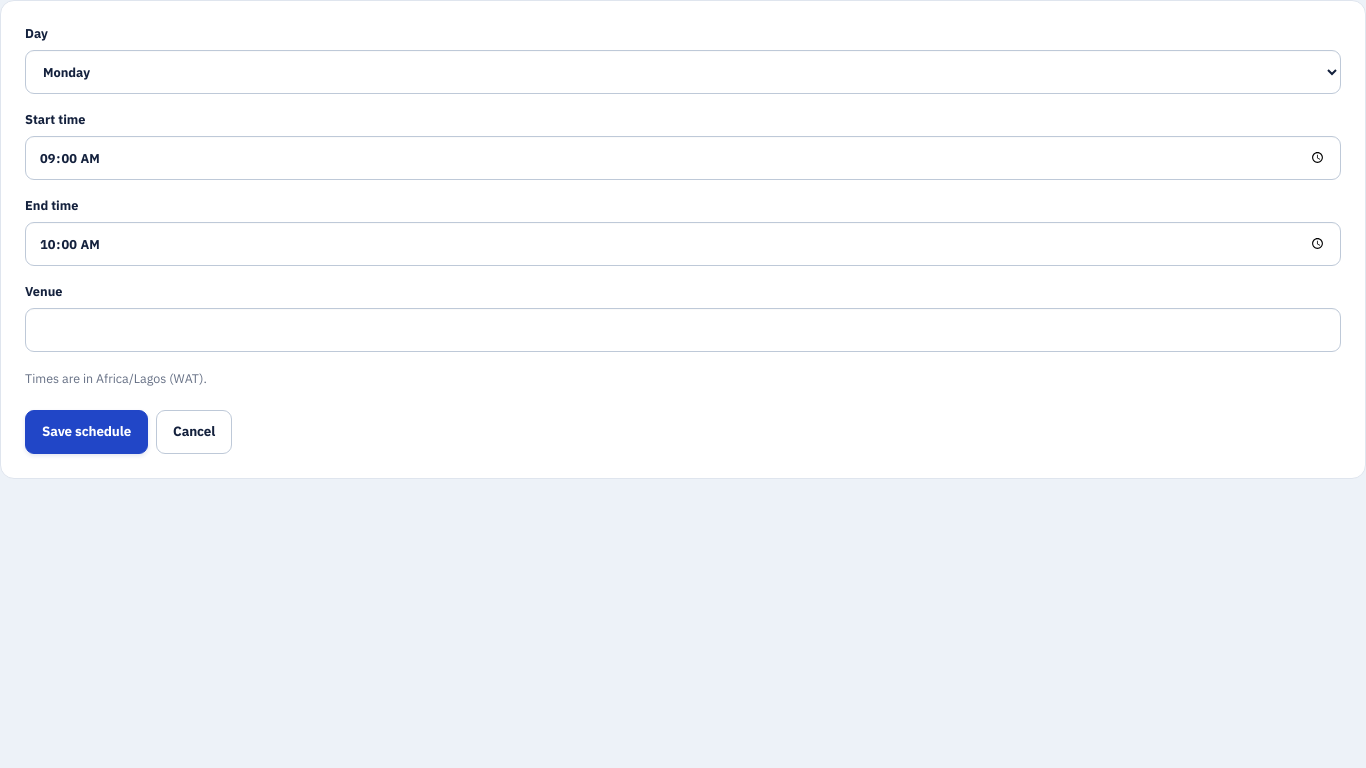
Test case: schedule form › rejects reversed times and preserves drafts after a server failure
Type "Room 7" into the field labelled "Venue" at (683, 330), box x1=25 y1=308 x2=1341 y2=352
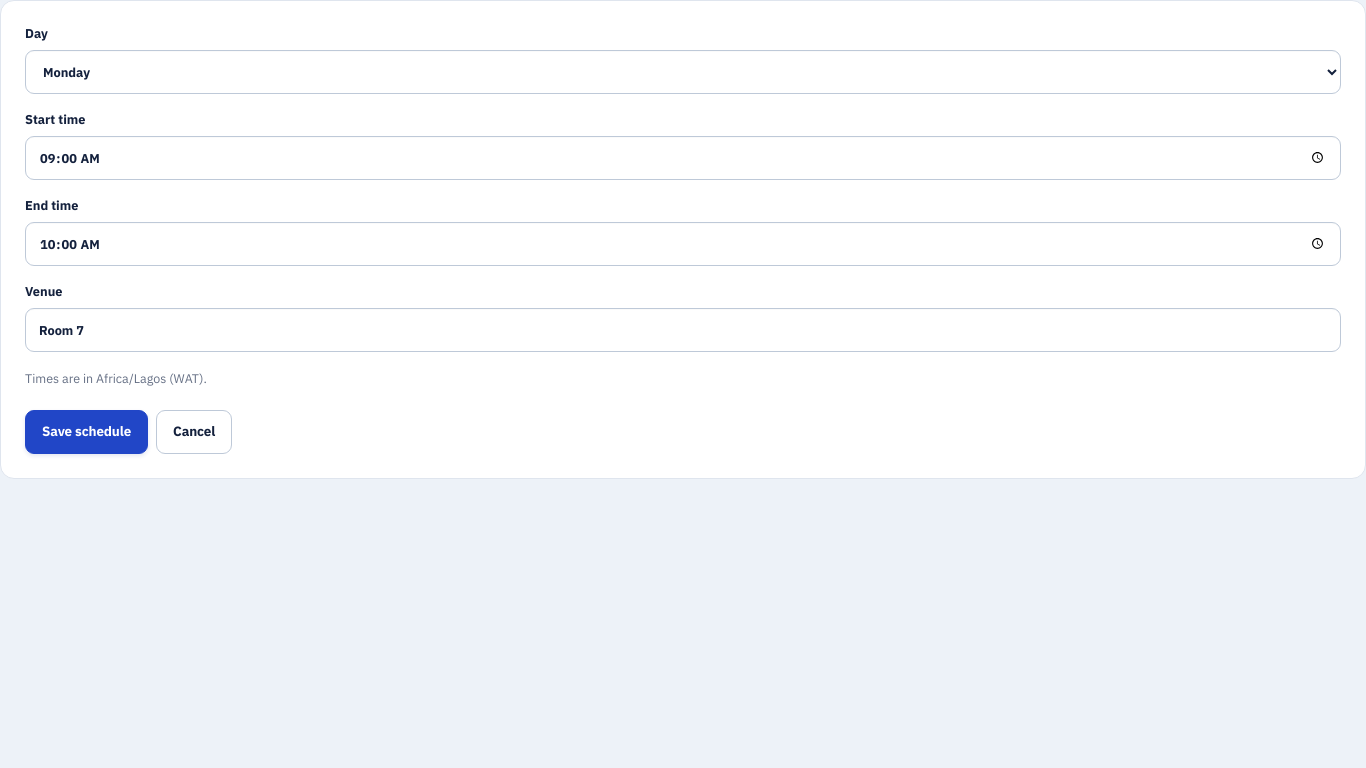
Replace the text in the time field labelled "End time" with "08:00" at (683, 244), box x1=25 y1=222 x2=1341 y2=266
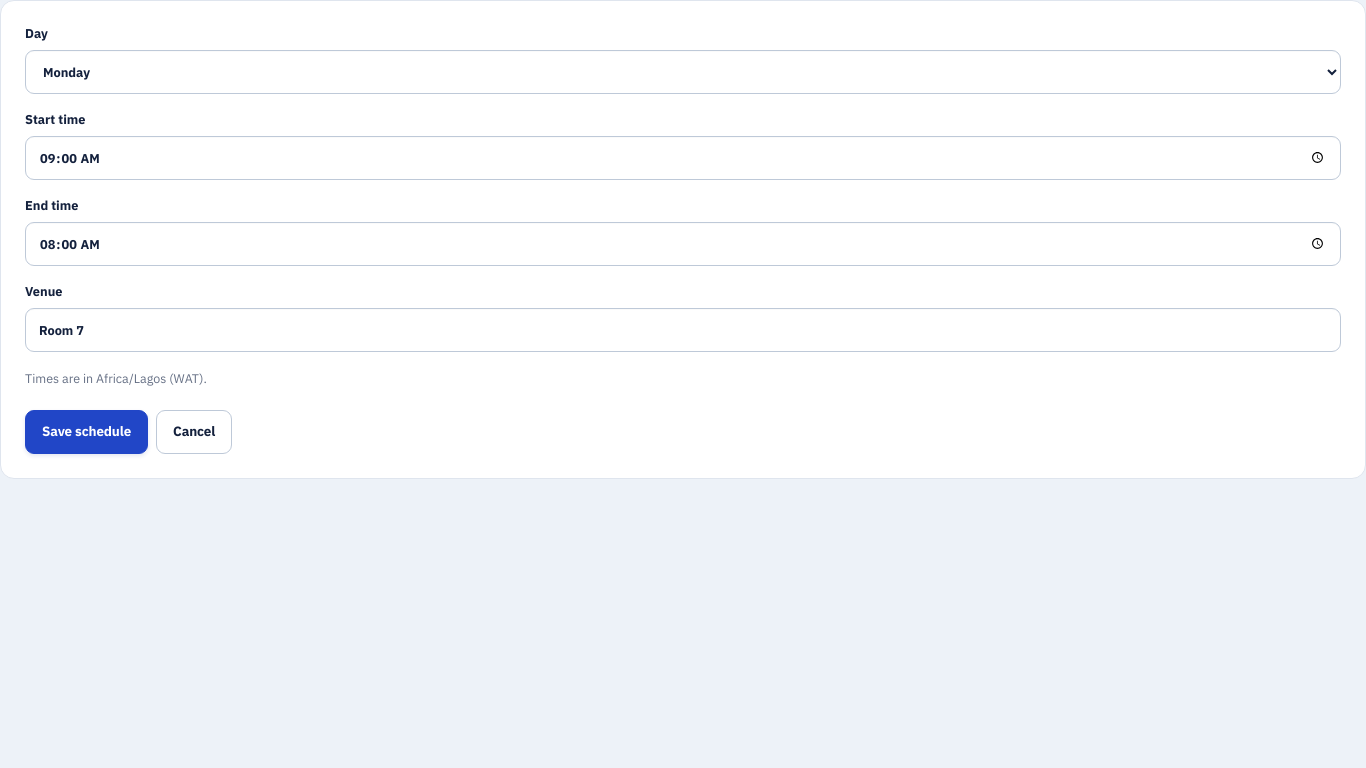
Click the button "Save schedule" at (87, 432), box x1=25 y1=410 x2=148 y2=454
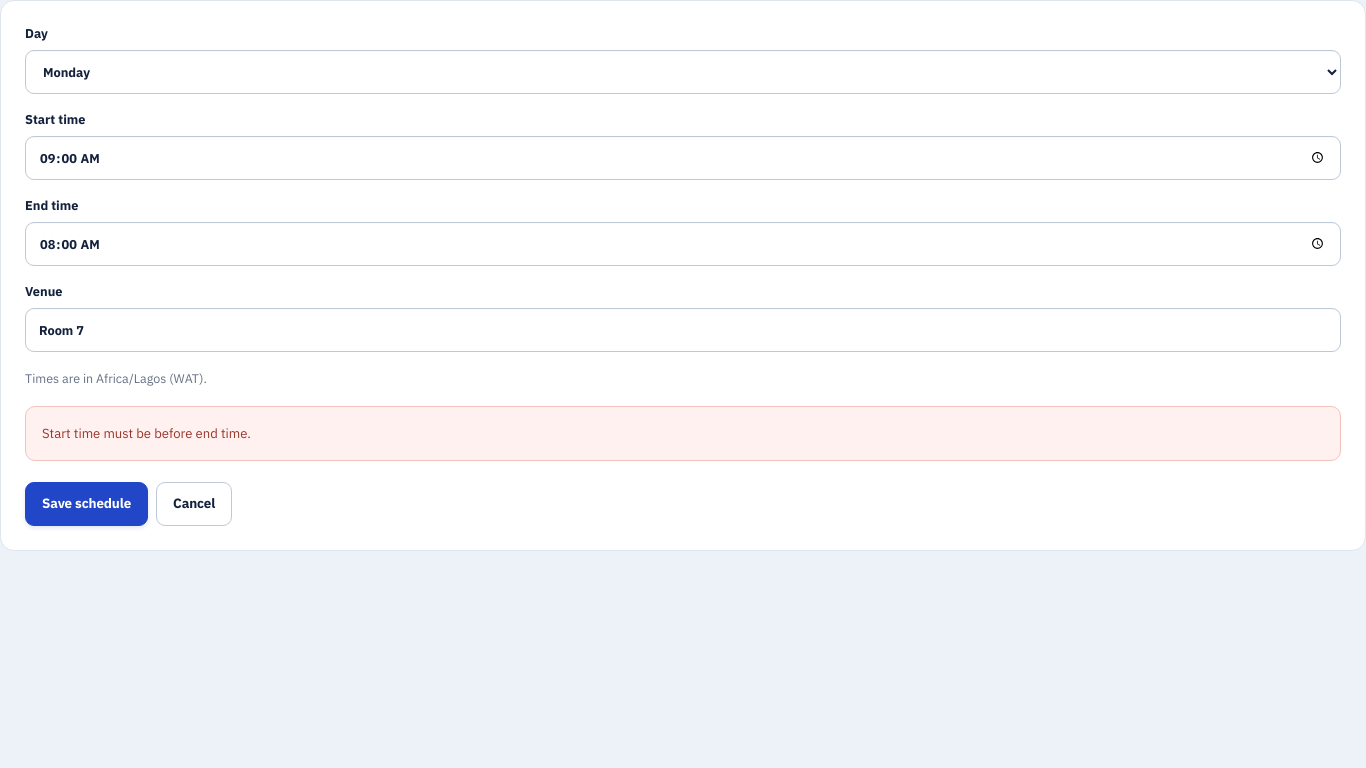
Result: the message shows "Start time must be before end time" at x1=42 y1=425 x2=251 y2=442
Replace the text in the time field labelled "End time" with "10:00" at (683, 244), box x1=25 y1=222 x2=1341 y2=266
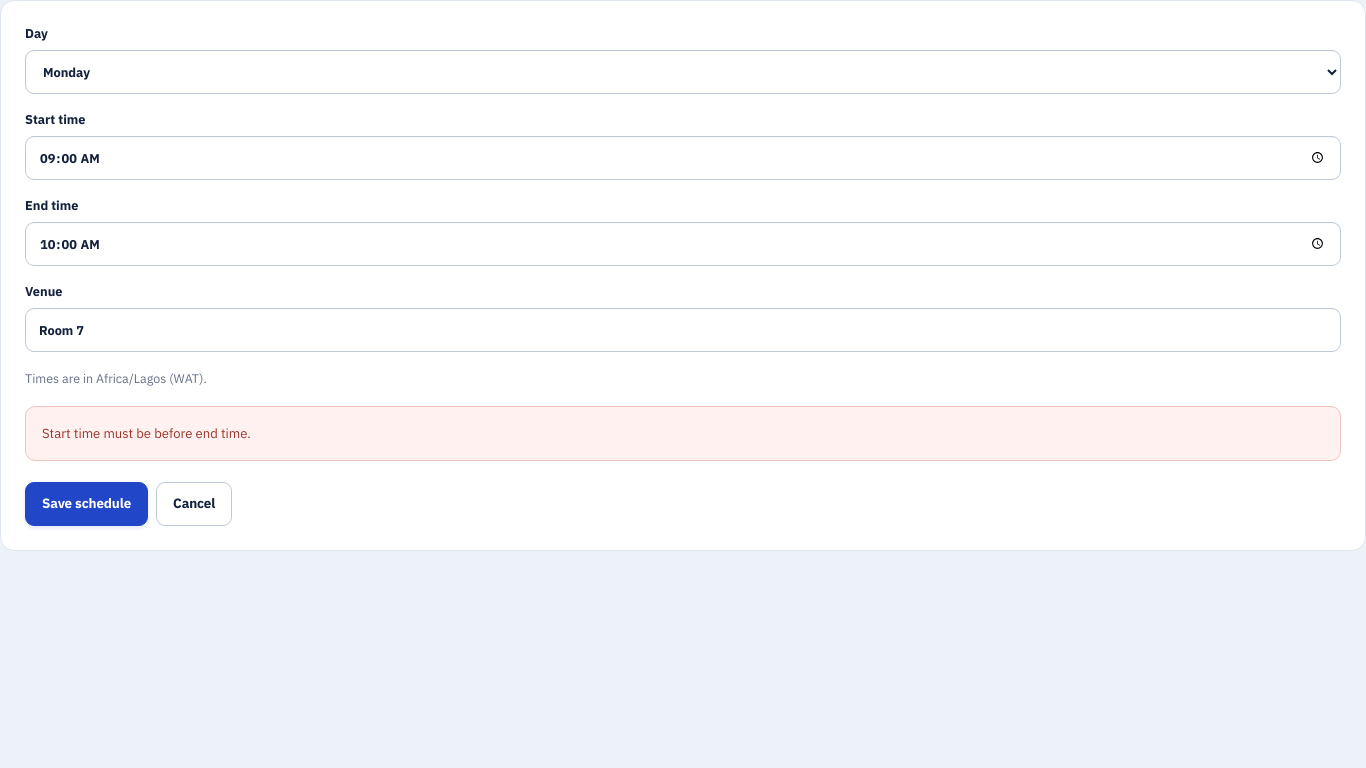
Click the button "Save schedule" at (87, 504), box x1=25 y1=482 x2=148 y2=526
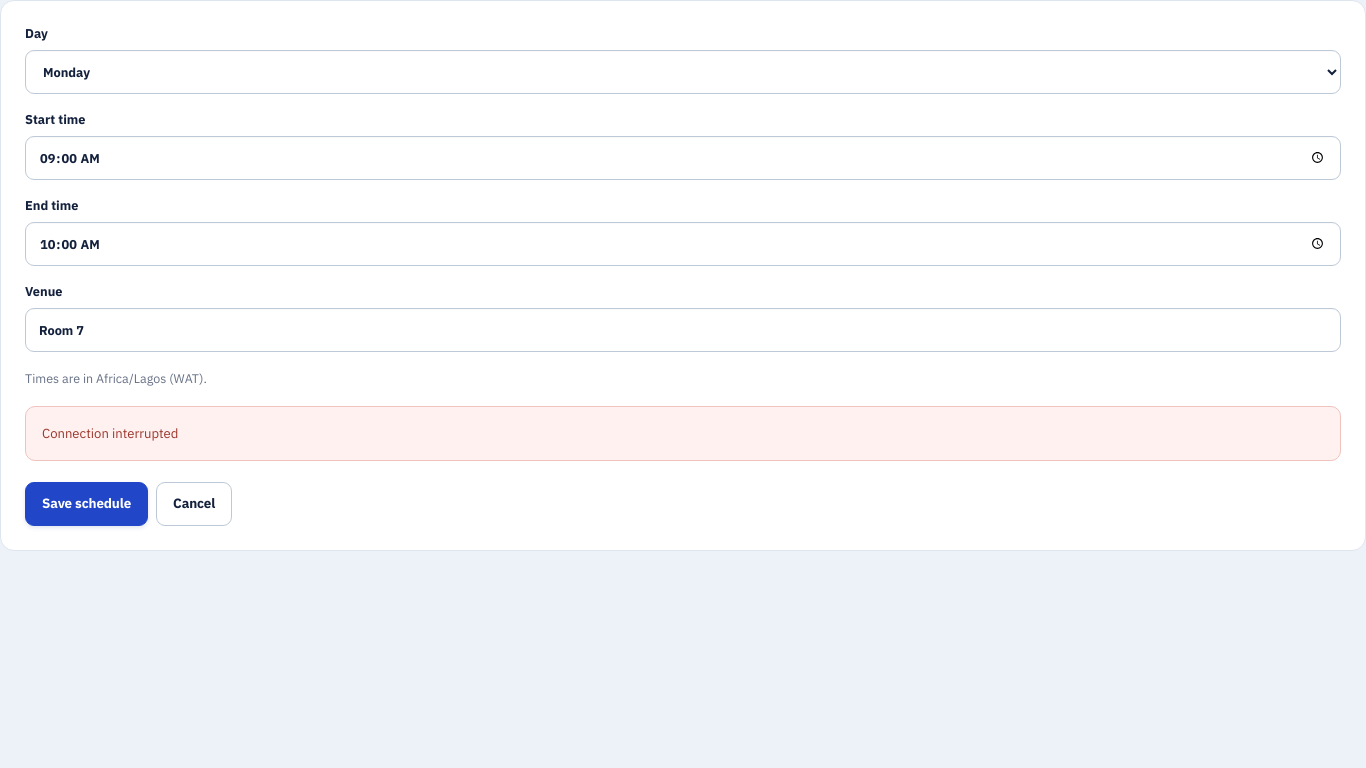
Result: the message reads "Connection interrupted" at x1=42 y1=425 x2=178 y2=442
